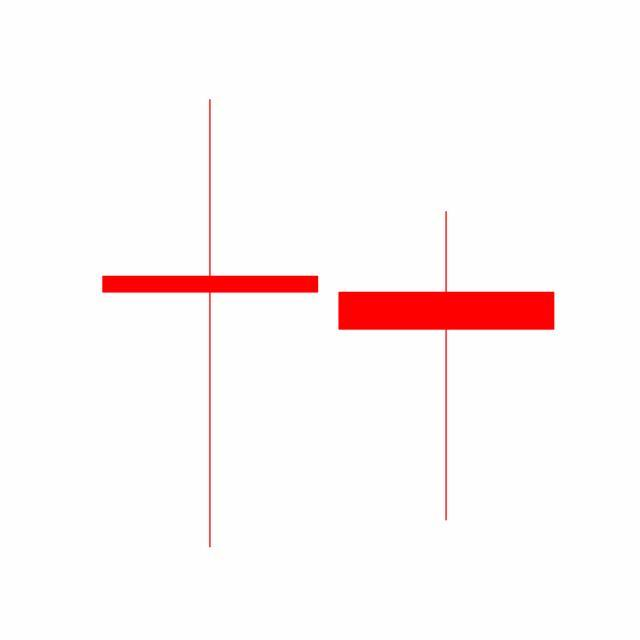Spinning Top: (328, 208, 566, 524)
